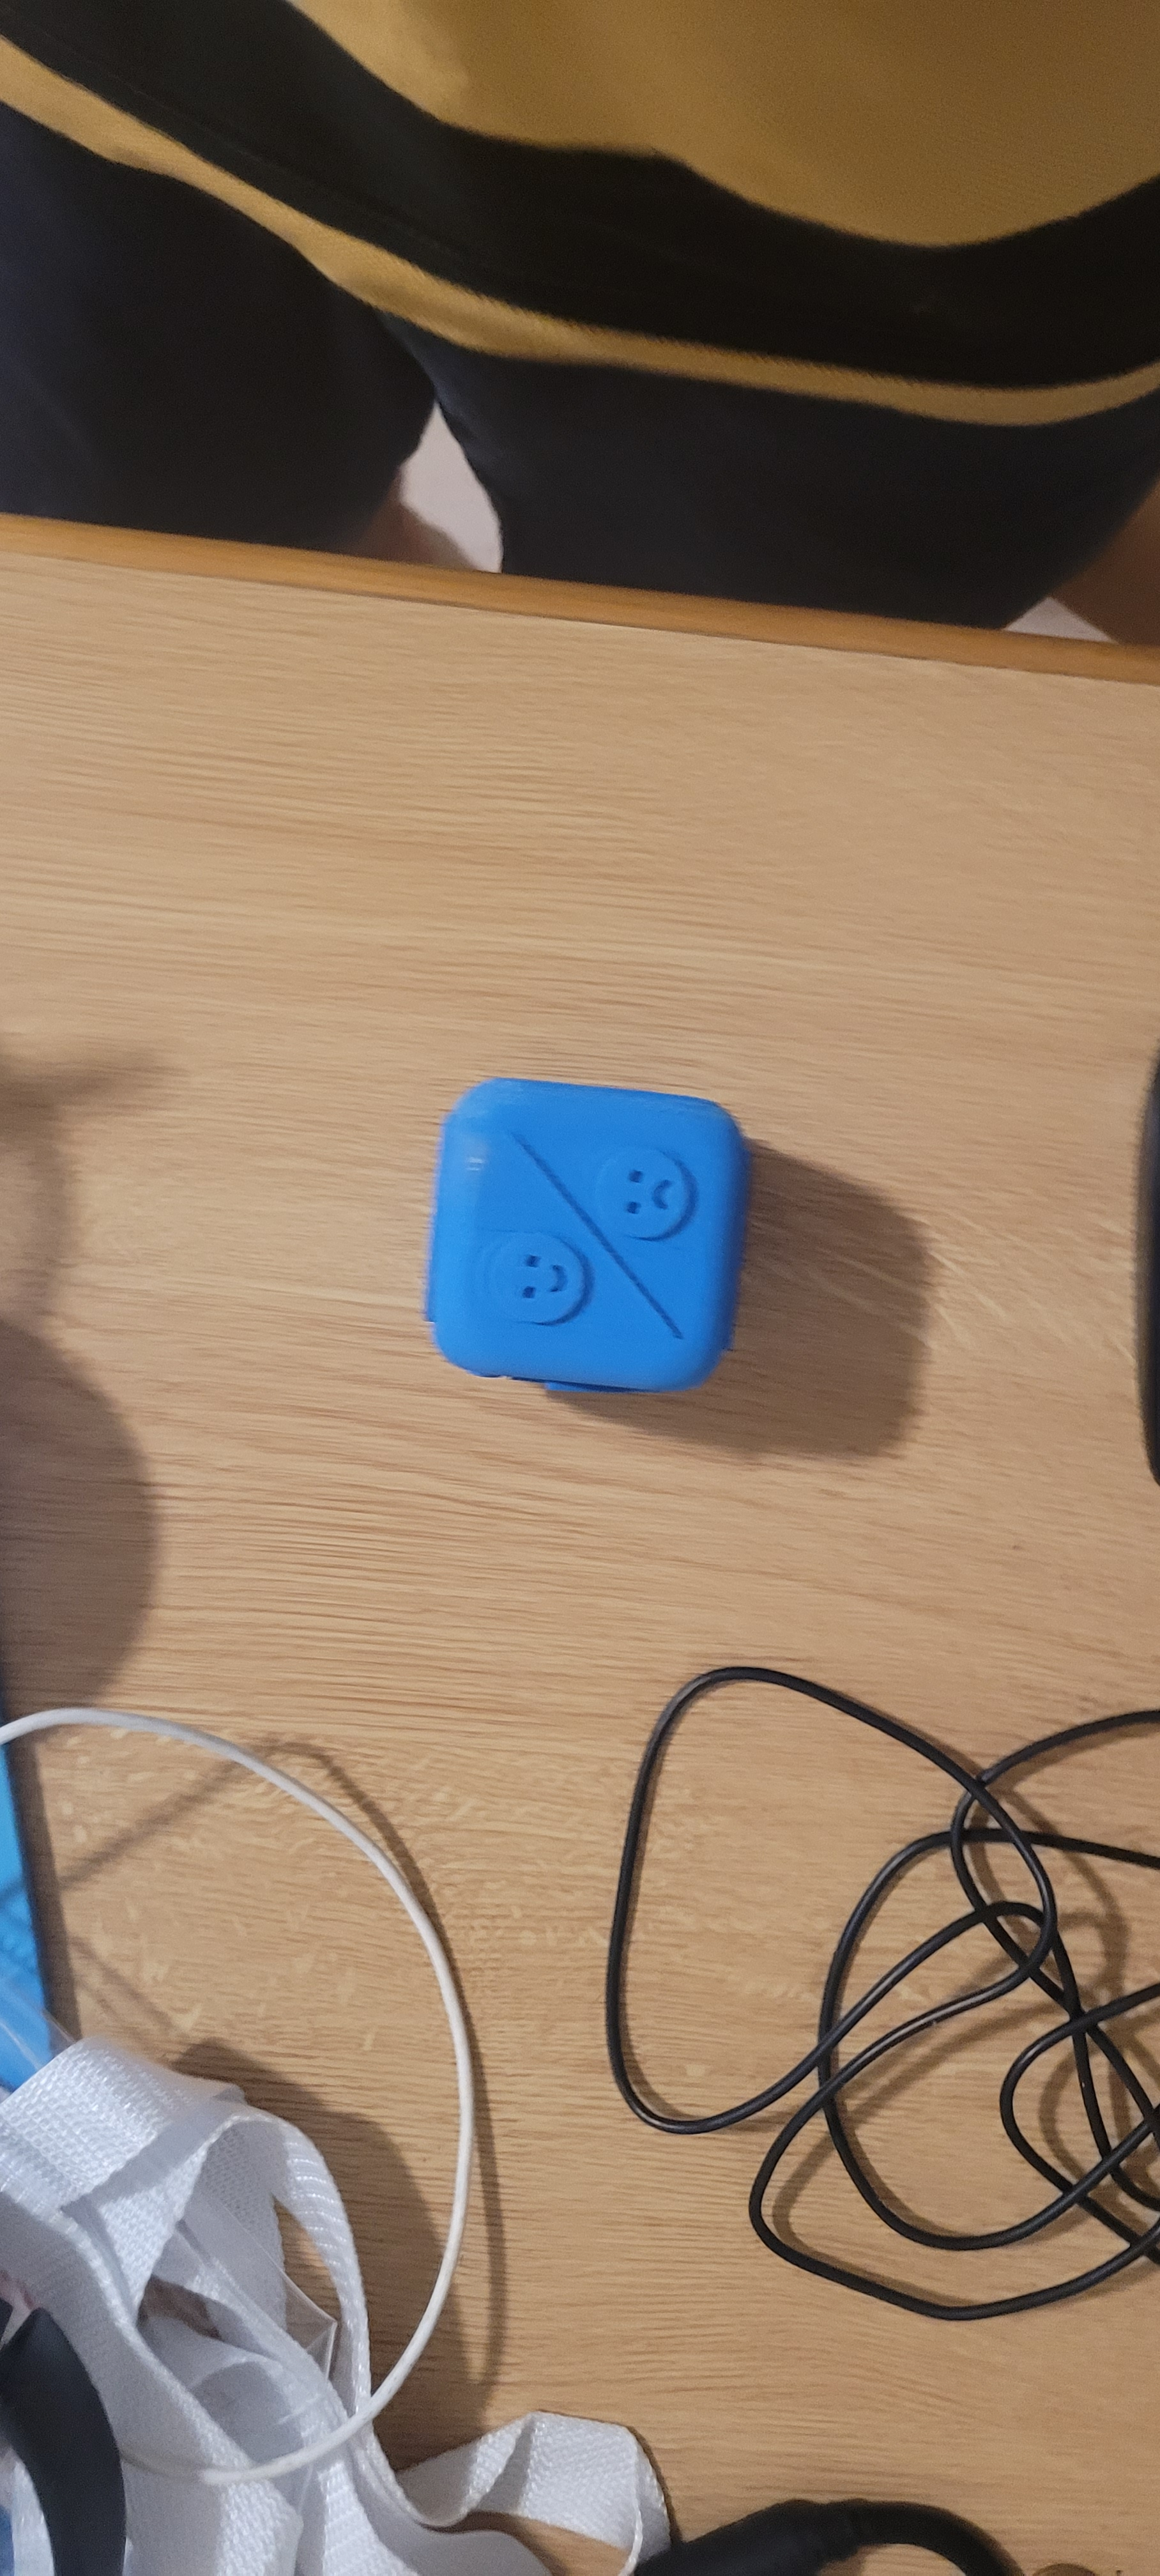Like/Dislike: (430, 1017, 761, 1391)
